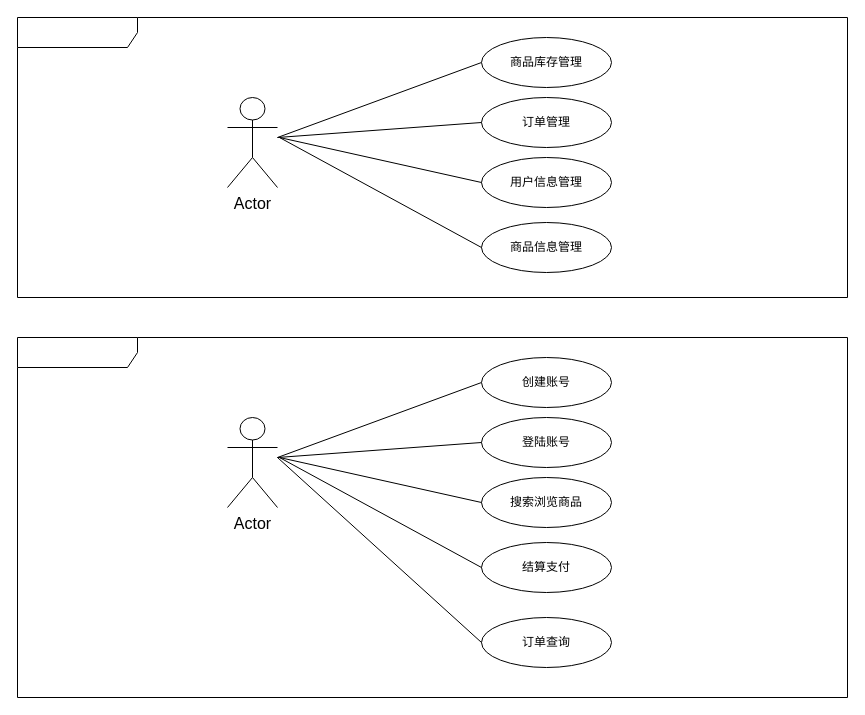
This 865x715 diagram has some shape labels left out. The shapes that lost their labels are listed below. From the top down, each one's box as (x1, y1, x2, y2) in pixels, then its label:
(16, 16, 848, 298): 后台管理
(16, 336, 848, 698): 用户购买
